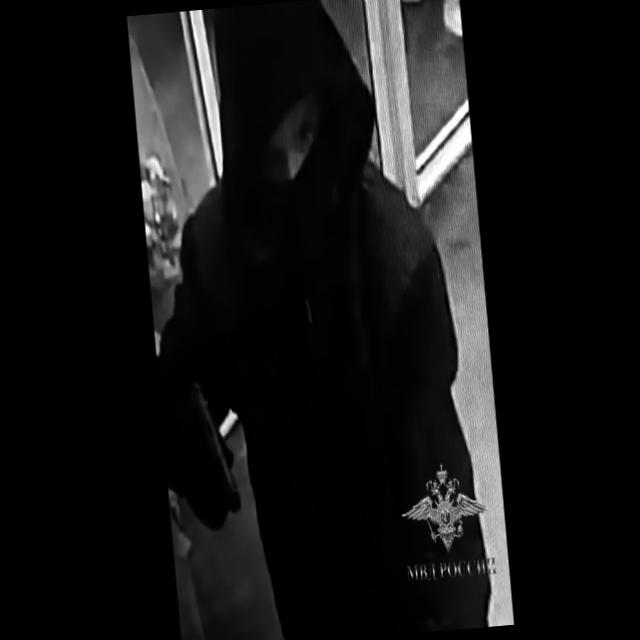gun: (161, 355, 243, 533)
person with a gun: (118, 0, 479, 640)
